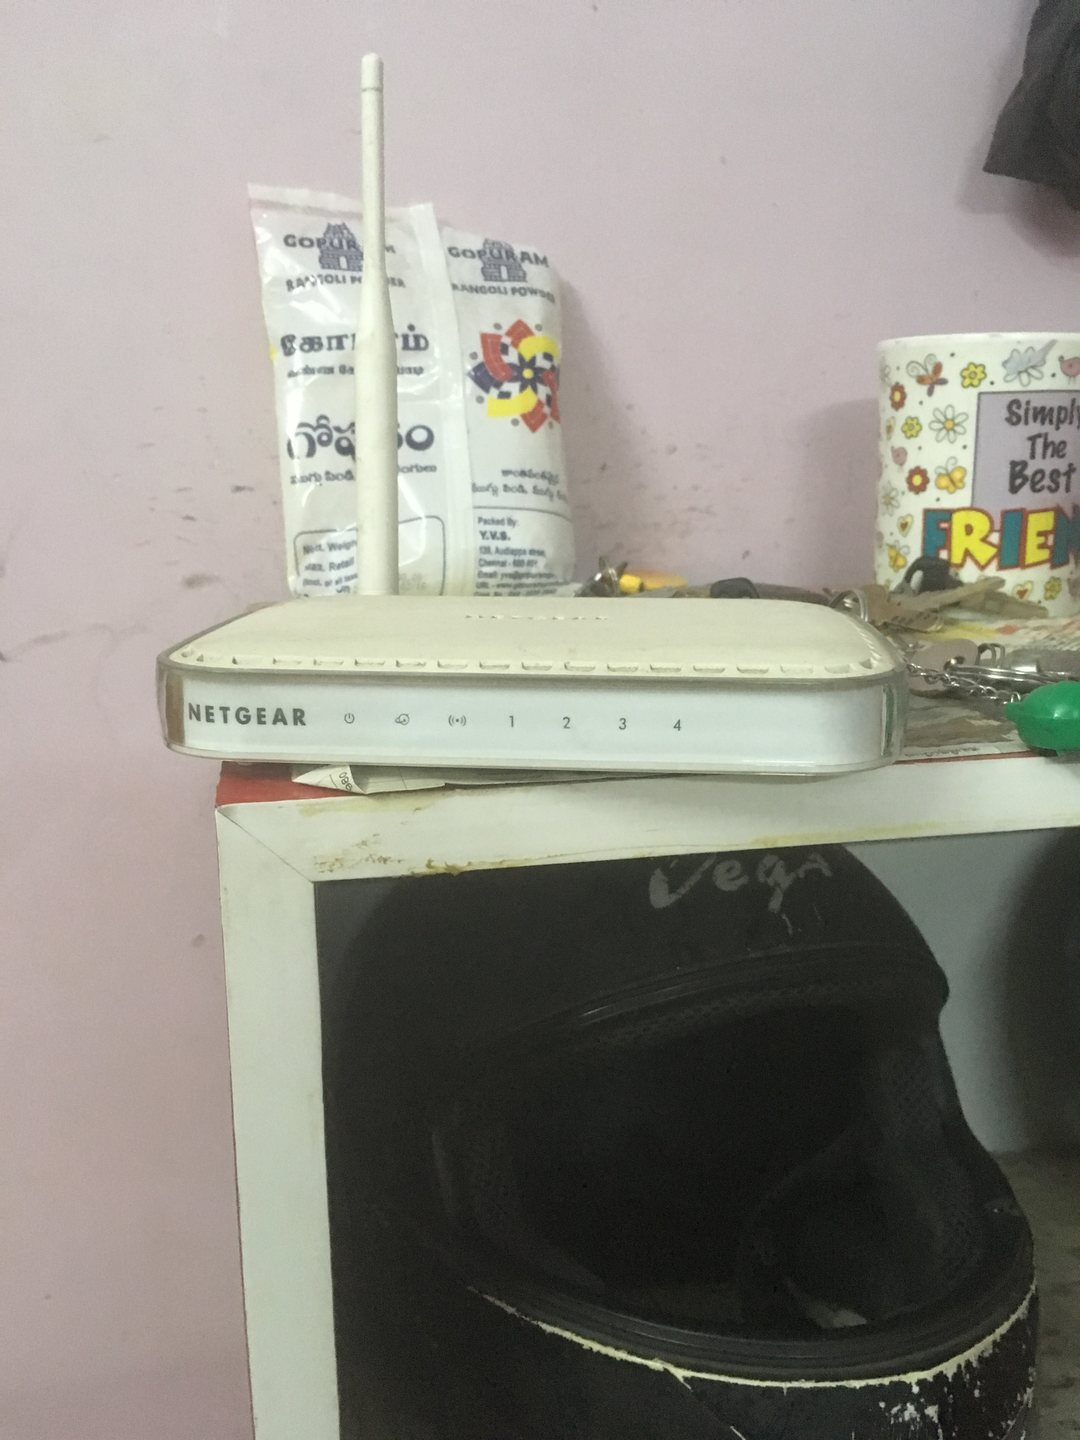NETGEAR: (176, 694, 313, 736)
modem: (142, 651, 905, 778)
